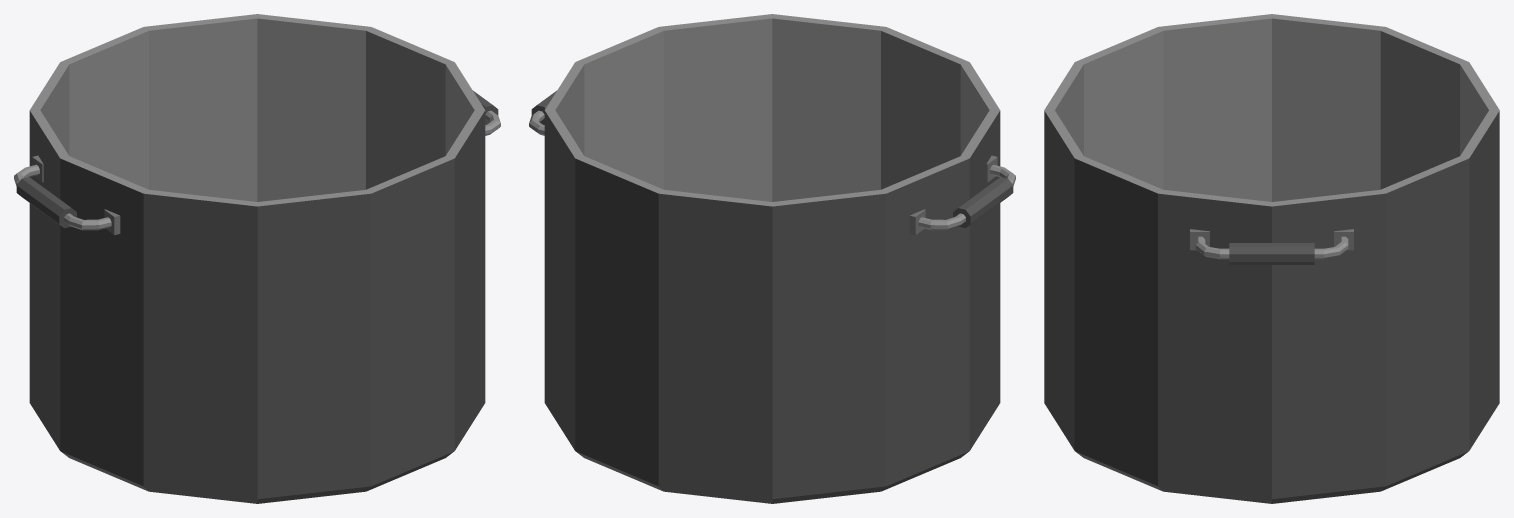
The model's file is Pan_01_C2.fbx.
3 views of the same model, side by side, from view 1: azimuth 30°, elevation 25°; view 2: azimuth 150°, elevation 25°; view 3: azimuth 270°, elevation 25° (orthographic).
Visible parts, largest first — view 1: Pan_01_C2; view 2: Pan_01_C2; view 3: Pan_01_C2.
Part boxes in pixels (left/top/right/bottom): Pan_01_C2: left=14, top=14, right=500, bottom=503; Pan_01_C2: left=529, top=14, right=1015, bottom=503; Pan_01_C2: left=1044, top=14, right=1499, bottom=503.
Bounding box in the file's own units: 31.07 × 20.41 × 27.92.
